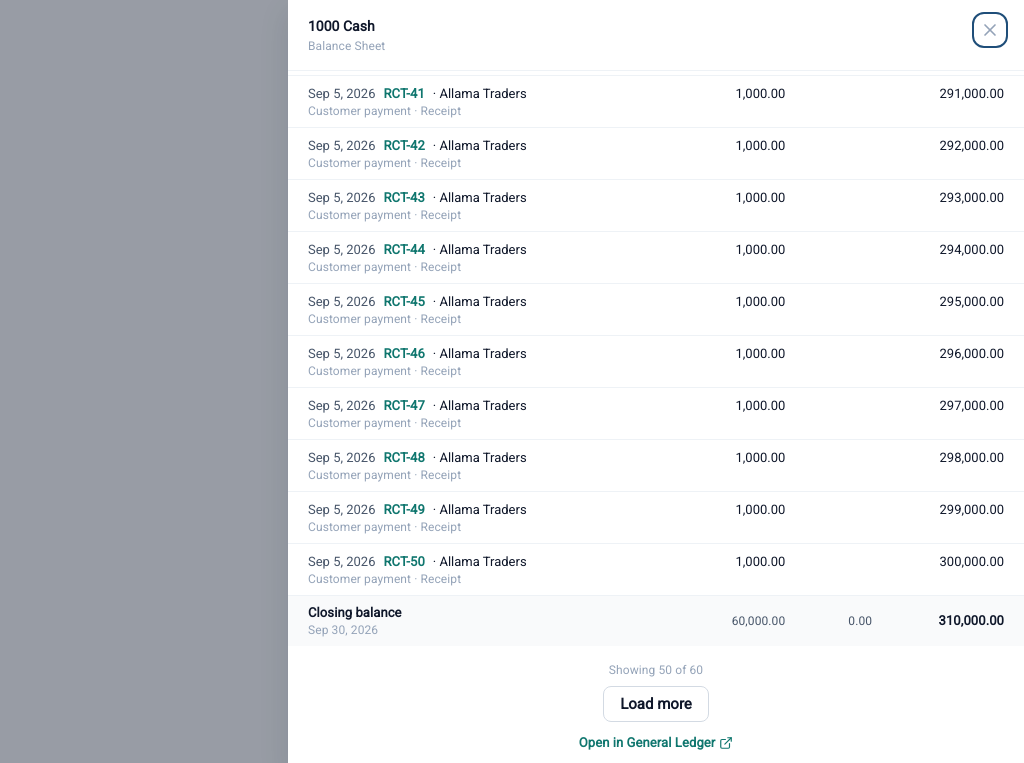
it: InvestigatePanel — register › ties to the statement and pages on, the running balance continuing across pages
(page scrolled)
Check: the text "Showing 50 of 60" is shown, box x1=609 y1=662 x2=703 y2=678
Check: the text "RCT-51" is not shown
Click the button "Load more" at (656, 704), box x1=603 y1=686 x2=709 y2=722
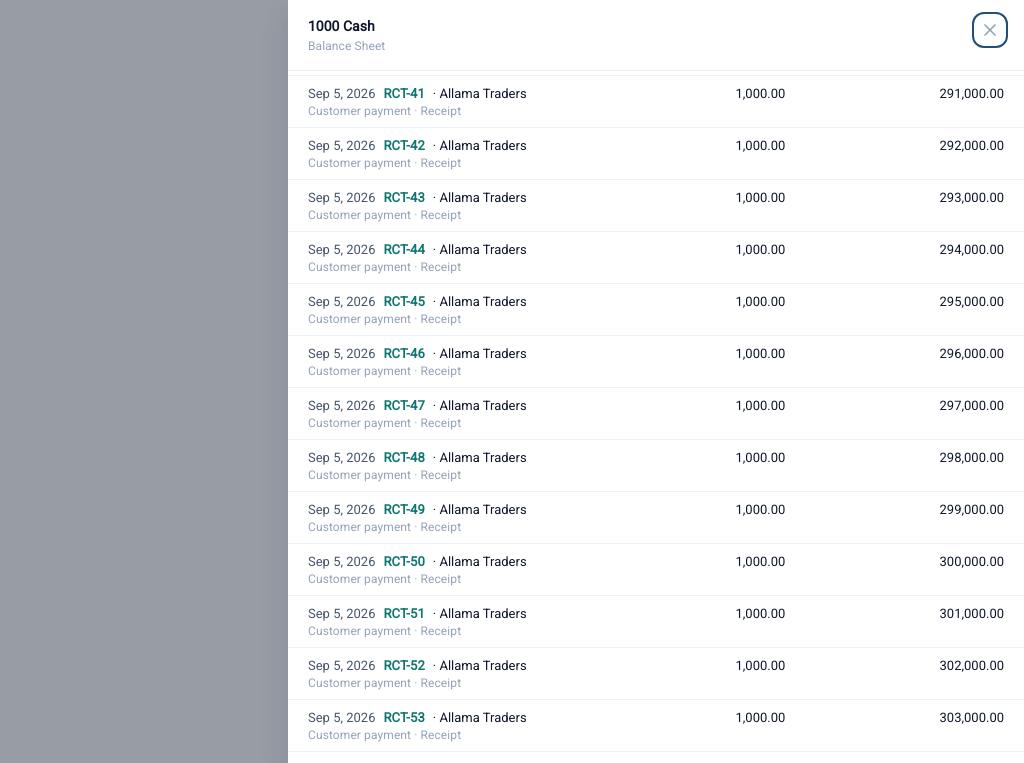
Check: the text "301,000.00" is shown, box x1=880 y1=596 x2=1023 y2=648
Check: the button "Load more" is gone
